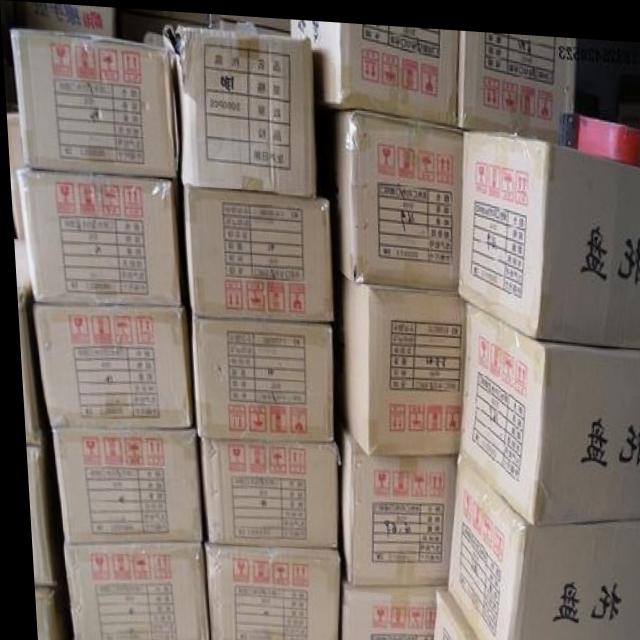box: (453, 297, 640, 518), (454, 123, 640, 341), (441, 447, 640, 640), (163, 21, 314, 193), (10, 28, 177, 174), (336, 104, 463, 287), (337, 269, 463, 451), (14, 168, 177, 304), (180, 182, 329, 317), (30, 303, 188, 426), (336, 424, 453, 582), (290, 16, 459, 122), (187, 309, 328, 436), (47, 426, 195, 543), (195, 436, 334, 545), (58, 541, 200, 640), (457, 24, 577, 140), (198, 540, 334, 640), (334, 576, 442, 640), (22, 426, 58, 585), (15, 285, 45, 444), (426, 583, 476, 640), (29, 562, 65, 640)
